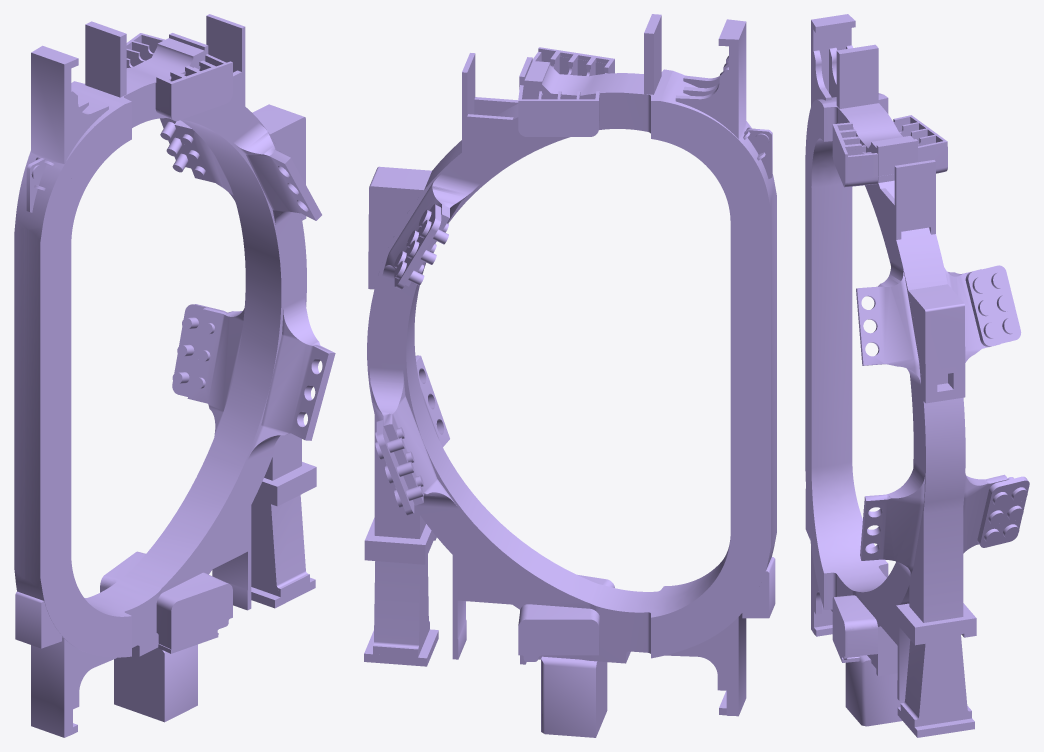
The picture shows the model from 3 angles, left to right: view 1: azimuth 30°, elevation 25°; view 2: azimuth 150°, elevation 25°; view 3: azimuth 270°, elevation 25°; orthographic projection. The views are drawn at different scales.
Visible parts, largest first — view 1: ITER_MESH__tf-a; view 2: ITER_MESH__tf-a; view 3: ITER_MESH__tf-a.
Part boxes in pixels (bbox=[...]): ITER_MESH__tf-a: bbox=[14, 14, 335, 737]; ITER_MESH__tf-a: bbox=[364, 14, 776, 737]; ITER_MESH__tf-a: bbox=[805, 14, 1029, 737].
Size of the model in its own units: 8.9 by 17.15 by 5.5.
